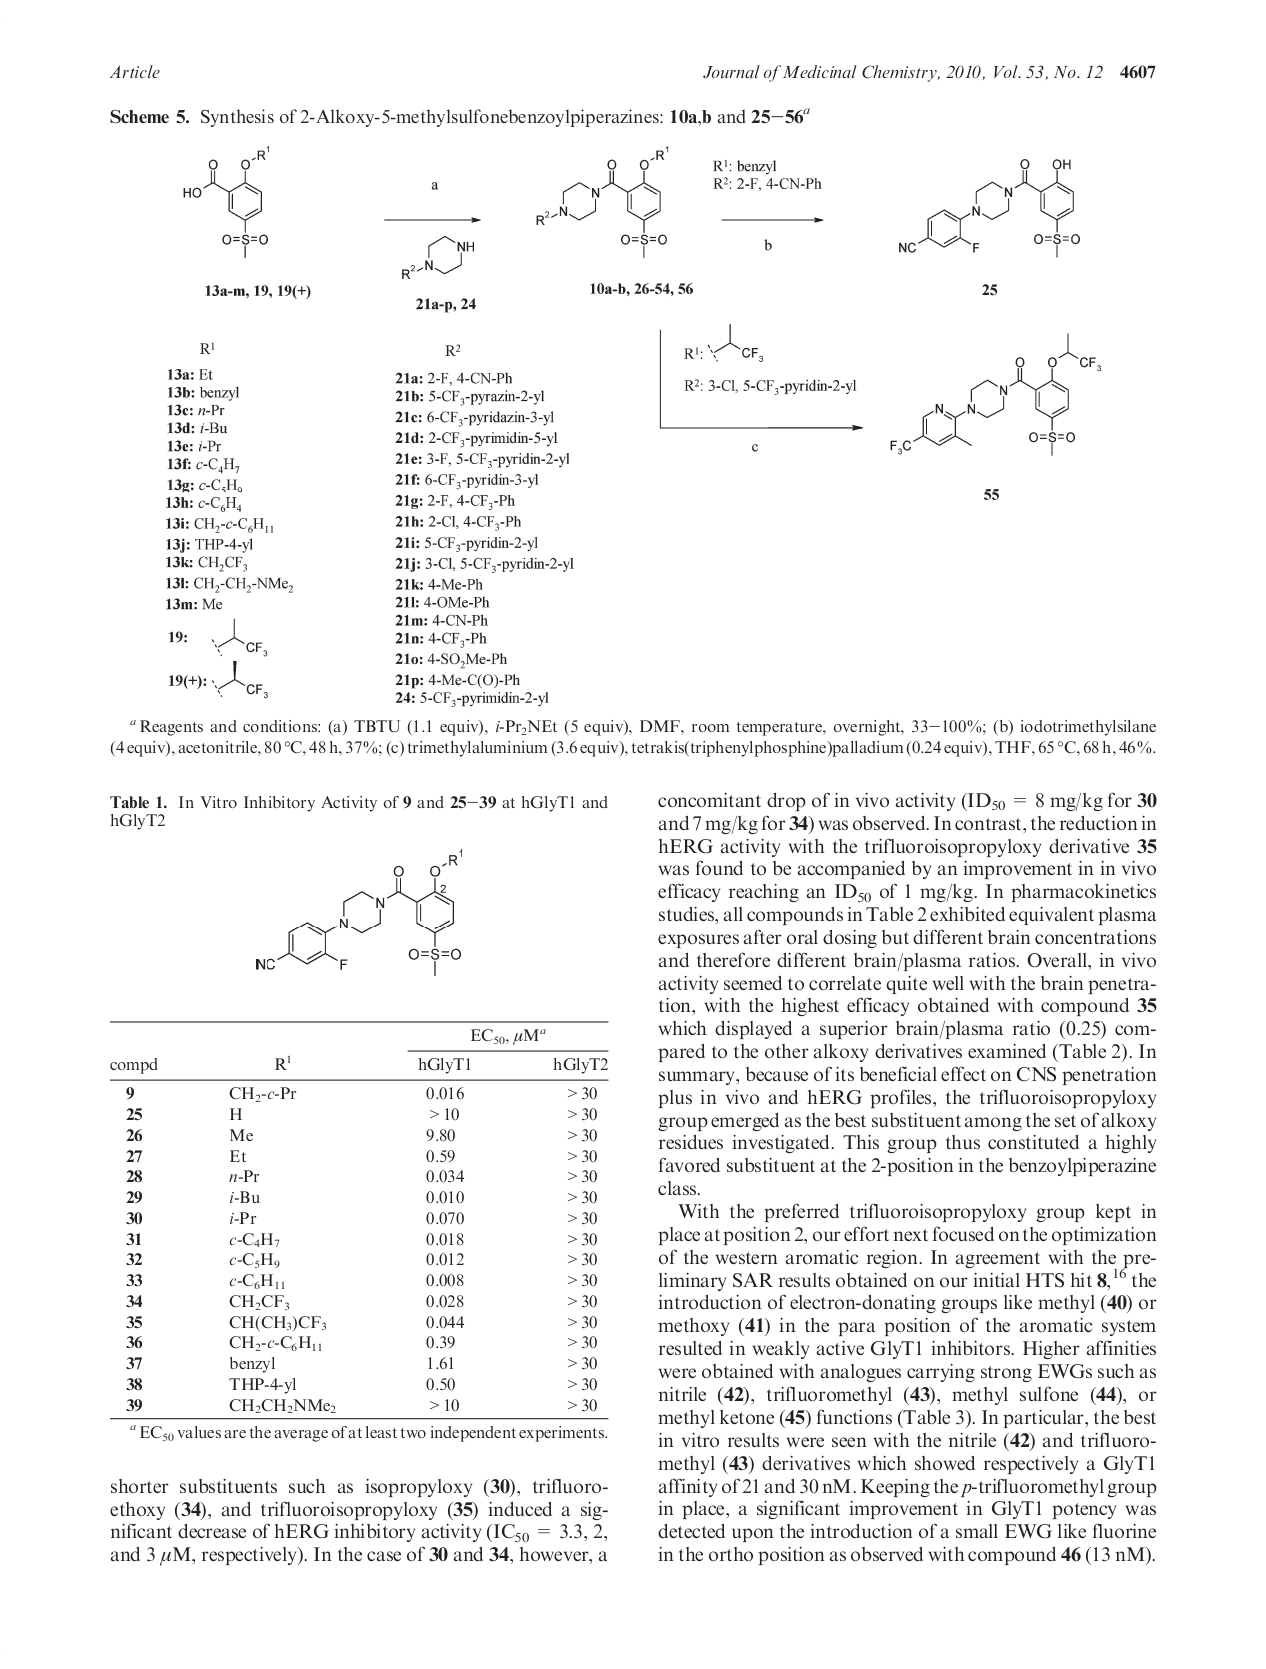exist_molecular: (247, 842, 480, 980), (887, 330, 1106, 461), (892, 156, 1080, 263), (532, 142, 673, 266), (184, 137, 287, 259), (394, 230, 481, 286), (673, 317, 767, 368)
